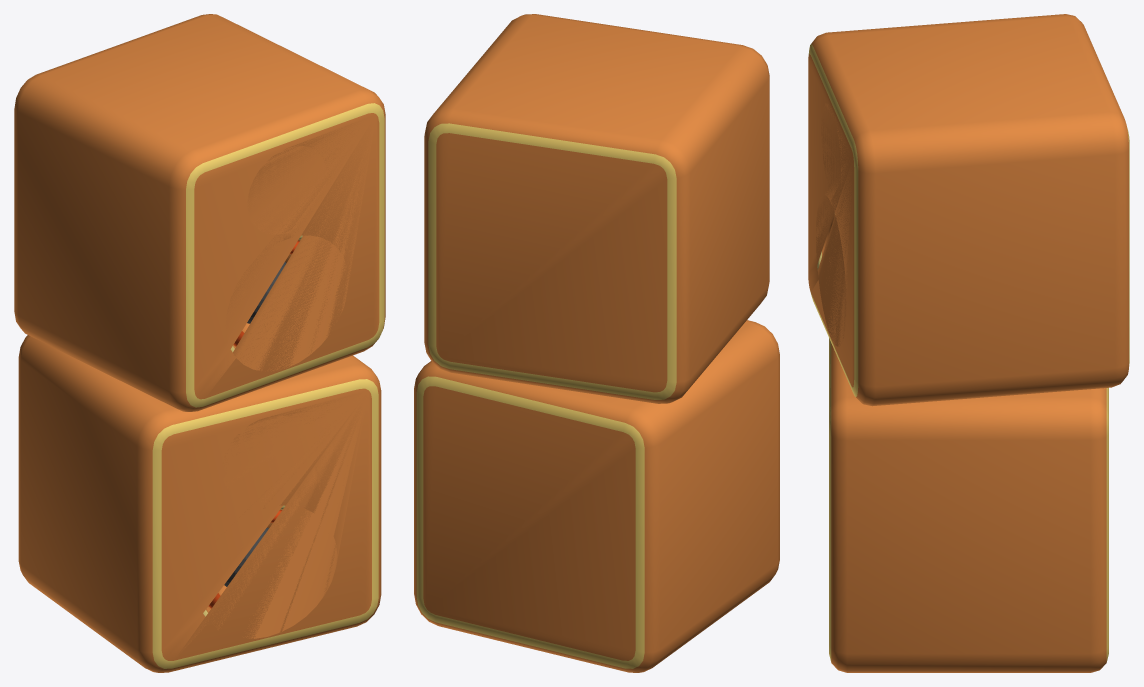
File: DoubleSpeaker.fbx
3 views of the same model, side by side, from view 1: azimuth 30°, elevation 25°; view 2: azimuth 150°, elevation 25°; view 3: azimuth 270°, elevation 25° (orthographic). The views are drawn at different scales.
Parts seen in each view (by area): view 1: SpeakerResized.002; view 2: SpeakerResized.002; view 3: SpeakerResized.002.
Boxes of the visible parts, x1,y1,x2,y2 form: SpeakerResized.002: (14,14,385,672); SpeakerResized.002: (414,14,779,672); SpeakerResized.002: (808,14,1129,672).
Size of the model in its own units: 110 by 201 by 107.
